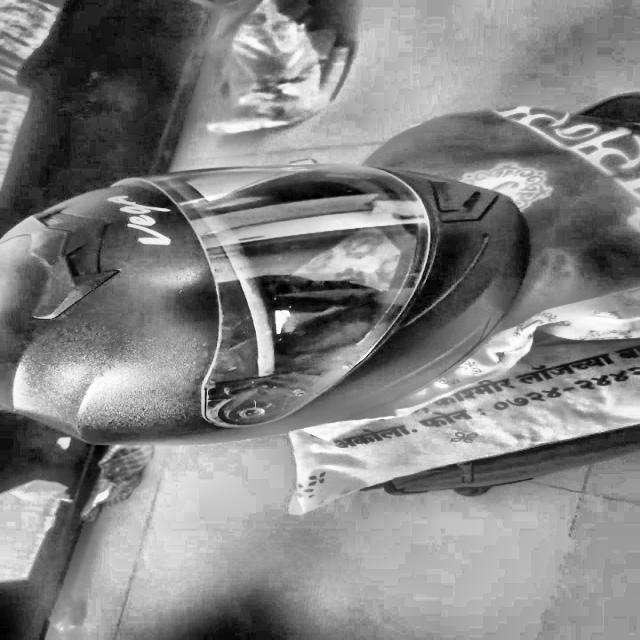Helmet: (0, 154, 520, 445)
